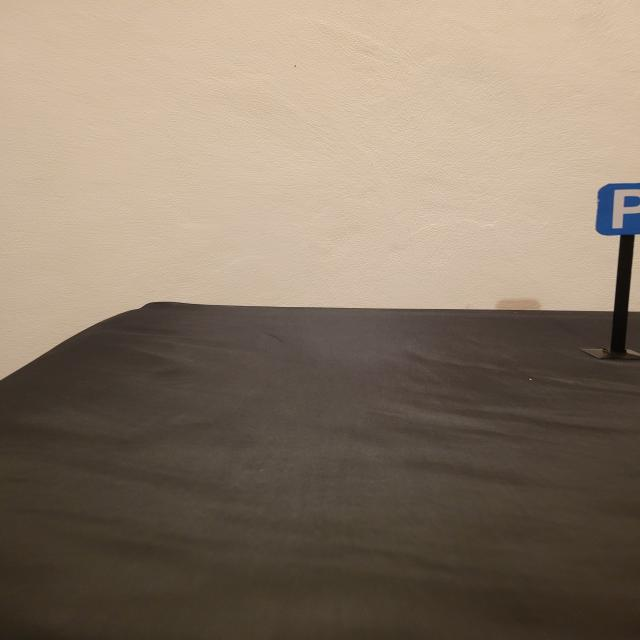parking: (595, 182, 640, 235)
